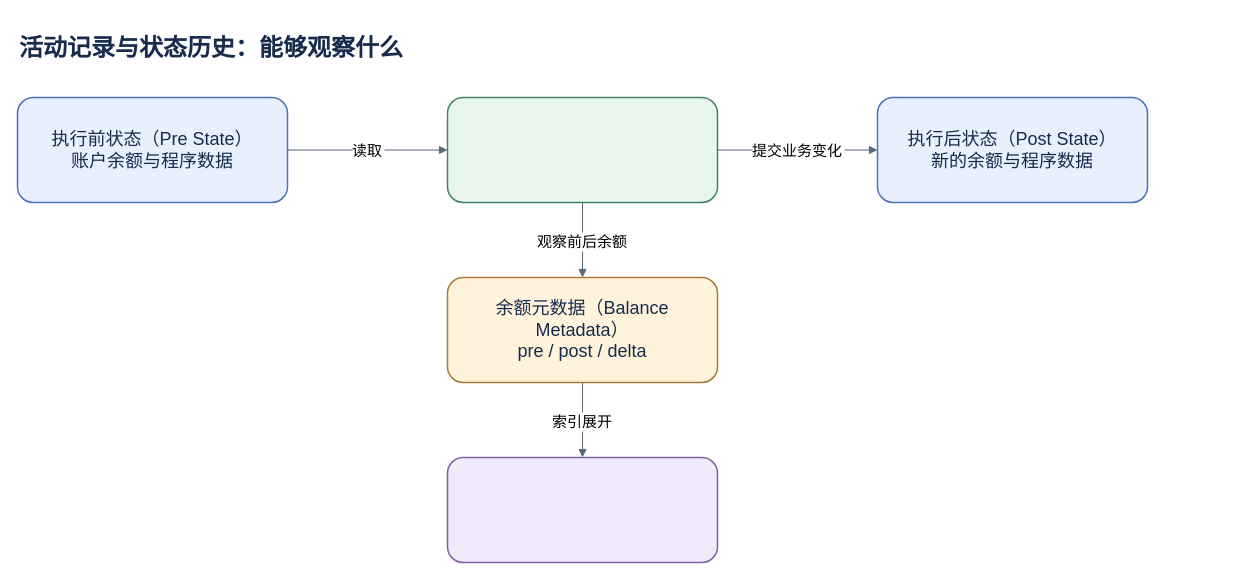
Image size: 1235x580. Some labels were removed from this diagram. The shapes that lost their labels are listed below. From the top down, each one's centre as x and y in pixels, then its label:
(x=582, y=149): 成功执行（Execution） 调用程序并修改可写账户
(x=582, y=509): 活动表（Account Activity） 不等于完整 data 历史快照
